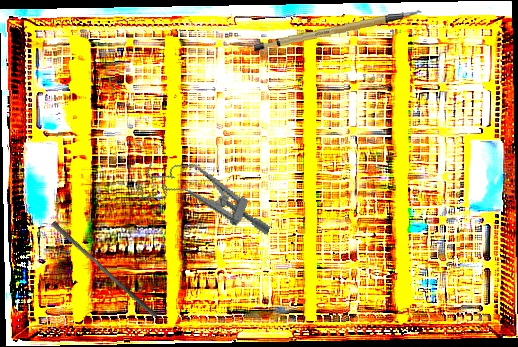Pusher: (47, 220, 162, 319)
Scalpel Handle: (252, 9, 425, 54)
Speculum: (134, 148, 282, 246)
